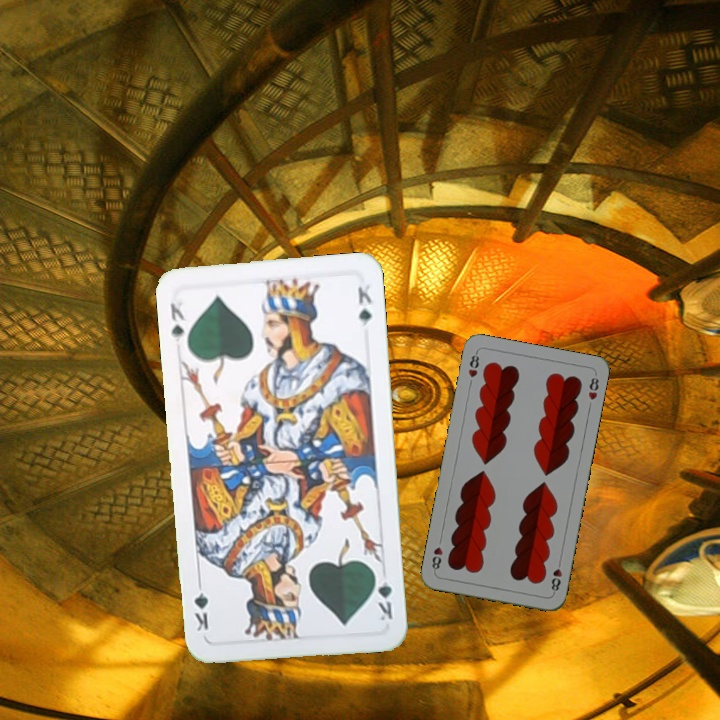GK: (370, 567, 395, 623), (166, 298, 187, 345)
H8: (547, 556, 565, 596), (464, 348, 482, 380)
